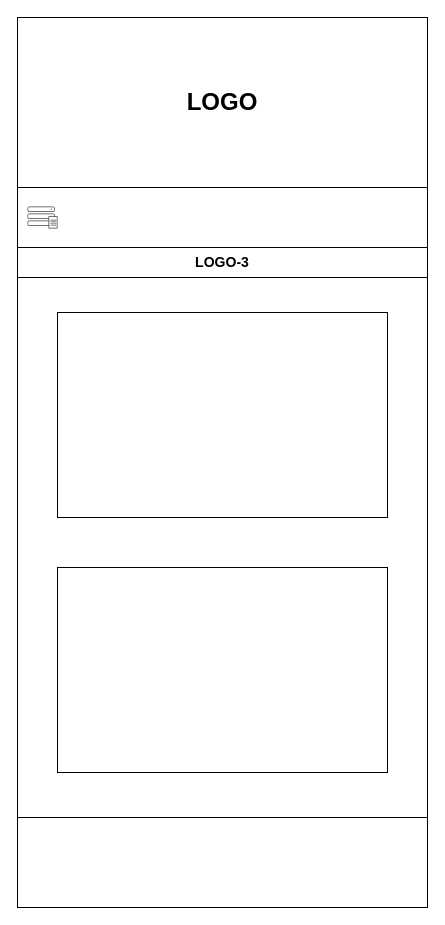
Some shapes in this 445 by 925 pixel diagram are drawn without their labels. Each missing label, with the box of its shape:
FOOTER: (16, 816, 428, 908)
LOGO_2: (16, 186, 428, 248)
